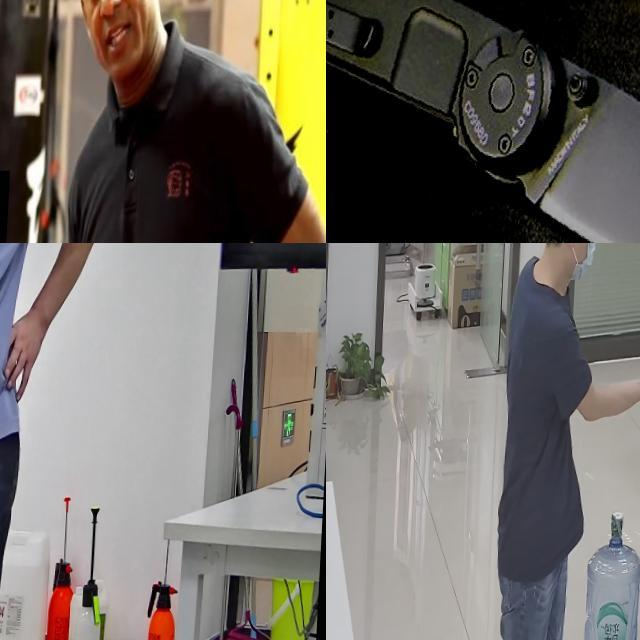-: (326, 0, 640, 243)
gun-knife-thesis - v11 Yolov5 augmented: (0, 279, 49, 400)
